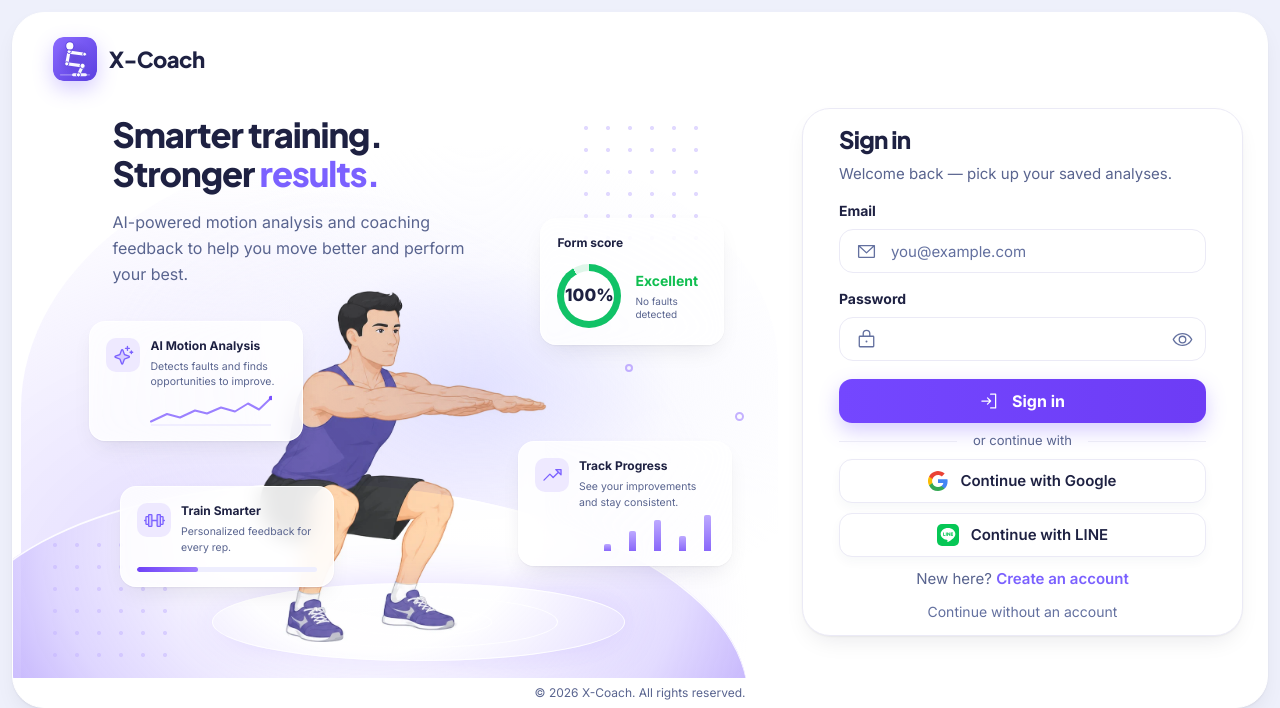
Login › shows an error when LINE sign-in fails
Click the button "Continue with LINE" at (1022, 535), box x1=839 y1=513 x2=1206 y2=557
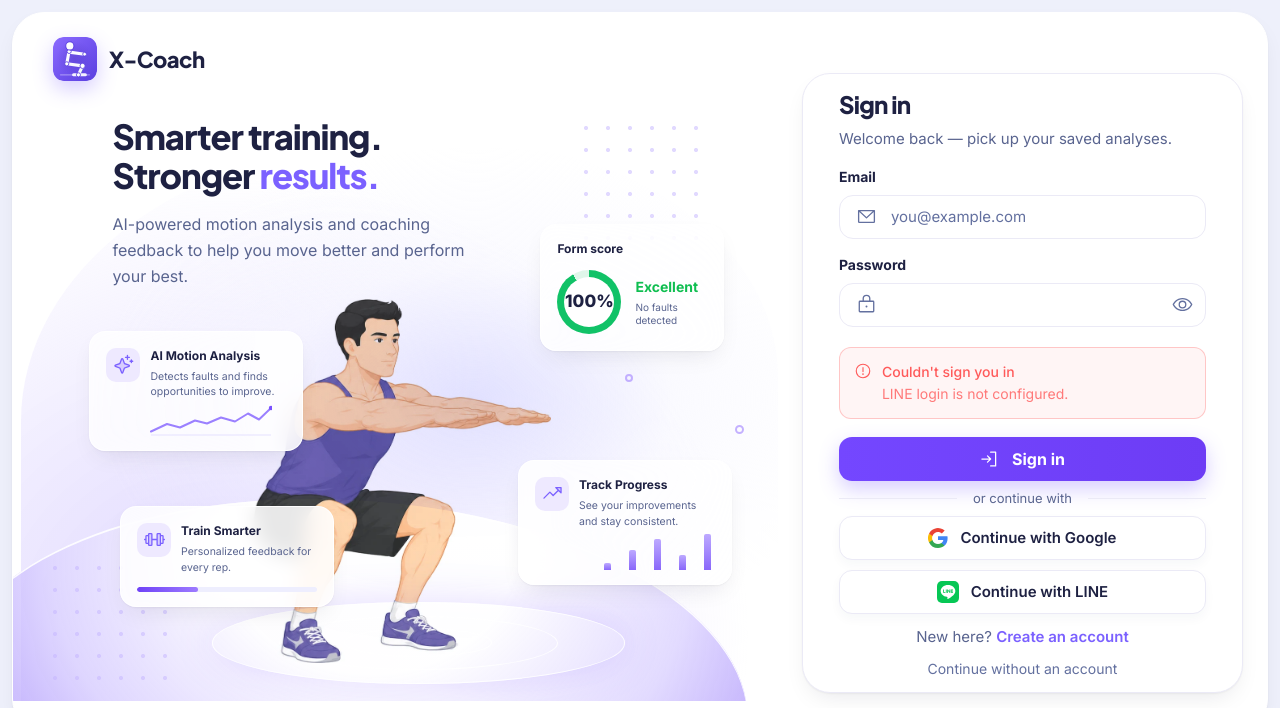
Expected: the text "LINE login is not configured." is shown, x1=882 y1=384 x2=1068 y2=404
